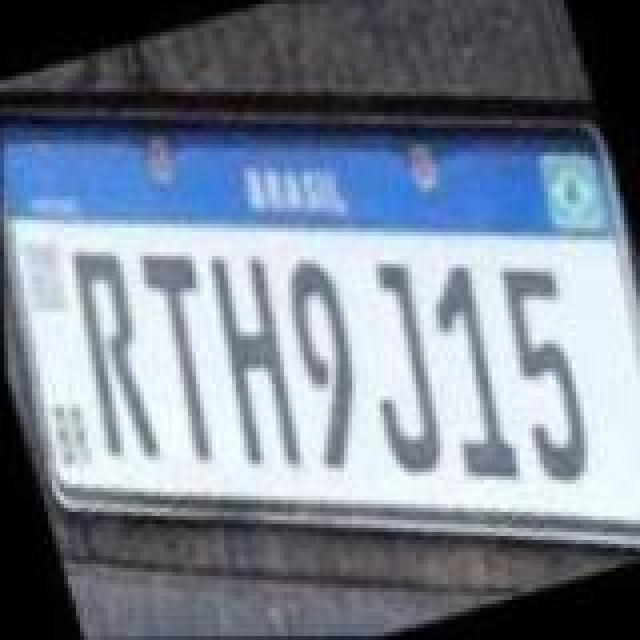1: (404, 252, 532, 492)
5: (482, 250, 614, 494)
9: (262, 248, 386, 476)
H: (184, 236, 320, 484)
J: (334, 248, 466, 480)
R: (46, 232, 174, 472)
T: (126, 230, 246, 462)
